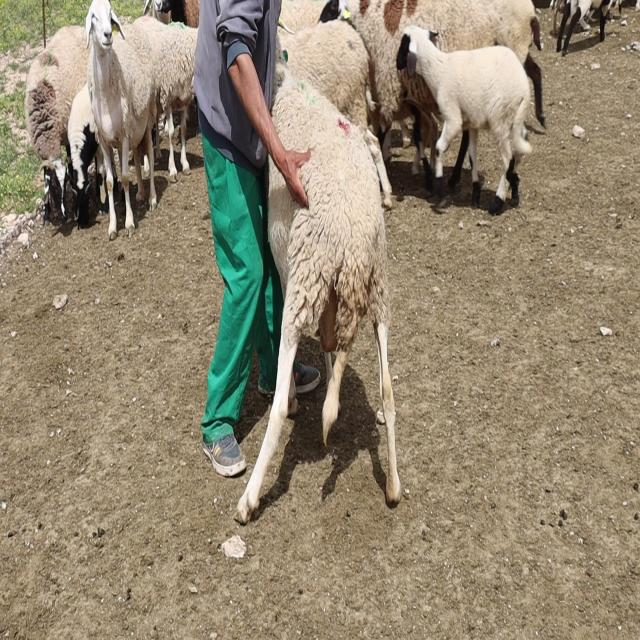Score_3: (236, 69, 402, 521)
